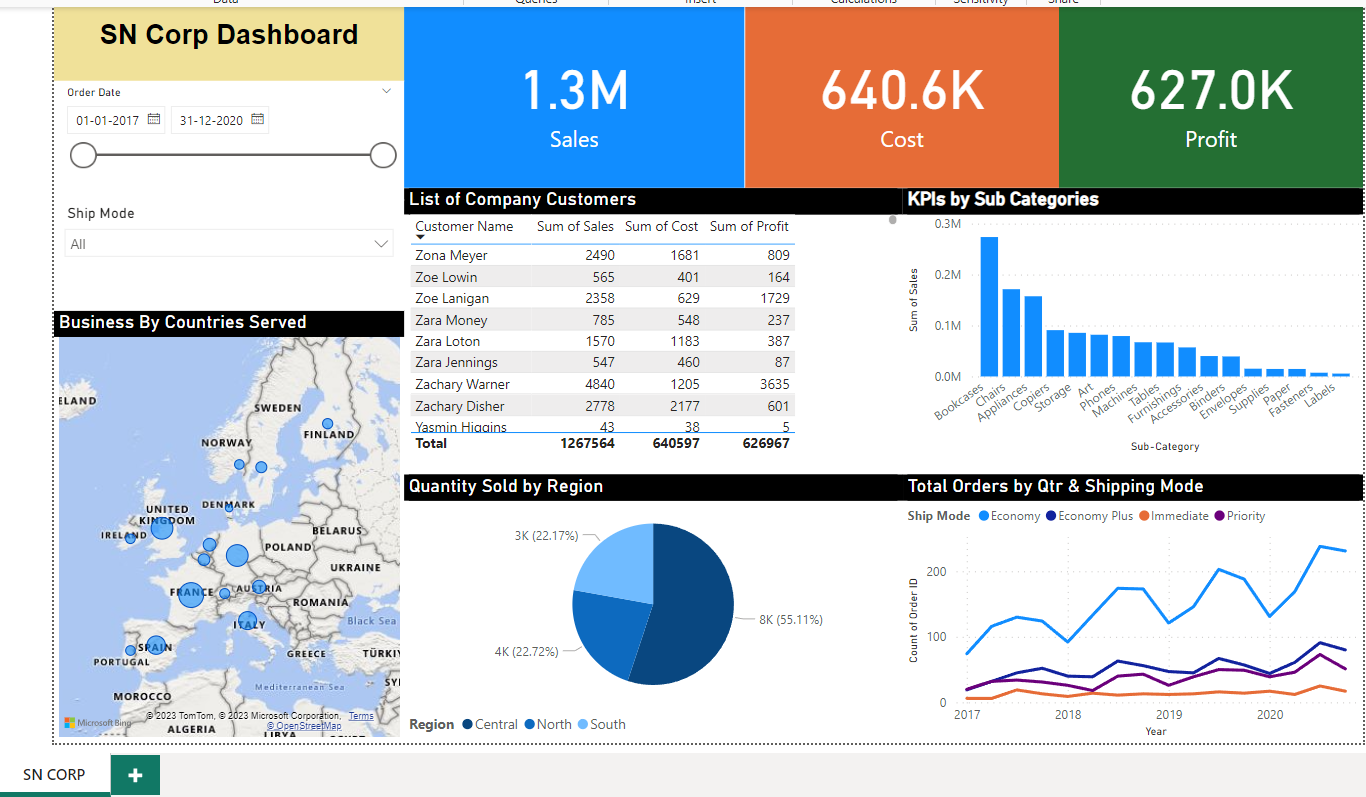

Layout of this report page (visuals, bound fields, positions):
{"tool":"powerbi","page":{"name":"Dashboard","canvas":[1280,720],"ordinal":0},"visuals":[{"type":"card","fields":{"Values":["List of Orders.Sales"]},"box":[342.8,0,333.2,176.9],"z":0},{"type":"card","fields":{"Values":["List of Orders.Cost"]},"box":[675.9,0,307.1,176.9],"z":1000},{"type":"card","fields":{"Values":["List of Orders.Profit"]},"box":[983,0,297.5,176.9],"z":2000},{"type":"tableEx","title":"List of Company Customers","fields":{"Values":["List of Orders.Customer Name","List of Orders.Sales","List of Orders.Cost","List of Orders.Profit"]},"box":[342.3,177.2,487.7,264],"z":3000},{"type":"clusteredColumnChart","title":"KPIs by Sub Categories ","fields":{"Category":["List of Orders.Sub-Category"],"Y":["List of Orders.Sales"]},"box":[830,177.2,451.1,264],"z":4000},{"type":"lineChart","title":"Total Orders by Qtr & Shipping Mode","fields":{"Y":["List of Orders.Order ID"],"Category":["List of Orders.Order Date.Variation.Date Hierarchy.Year","List of Orders.Order Date.Variation.Date Hierarchy.Quarter"],"Series":["List of Orders.Ship Mode"]},"box":[830,457.2,451.1,262.8],"z":5000},{"type":"pieChart","title":"Quantity Sold by Region","fields":{"Y":["List of Orders.Quantity"],"Category":["List of Orders.Region"]},"box":[342.3,457.2,487.7,262.8],"z":6000},{"type":"map","title":"Business By Countries Served","fields":{"Category":["List of Orders.Country"],"Size":["List of Orders.Sales"]},"box":[0,297.5,342.8,422.3],"z":7000},{"type":"textbox","box":[0,0,342.8,72.7],"z":7001},{"type":"slicer","fields":{"Values":["List of Orders.Order Date"]},"box":[0,72.7,342.8,116.5],"z":7002},{"type":"slicer","fields":{"Values":["List of Orders.Ship Mode"]},"box":[0,188.3,342.3,108.8],"z":7003}]}

Visuals, with their boxes in screenshot pixels (x1, y1, x2, y2):
card - List of Orders.Sales: {"left": 401, "top": 28, "right": 740, "bottom": 208}
card - List of Orders.Cost: {"left": 739, "top": 28, "right": 1051, "bottom": 208}
card - List of Orders.Profit: {"left": 1051, "top": 28, "right": 1353, "bottom": 208}
"List of Company Customers" tableEx: {"left": 401, "top": 208, "right": 896, "bottom": 476}
"KPIs by Sub Categories " clusteredColumnChart: {"left": 896, "top": 208, "right": 1354, "bottom": 476}
"Total Orders by Qtr & Shipping Mode" lineChart: {"left": 896, "top": 493, "right": 1354, "bottom": 759}
"Quantity Sold by Region" pieChart: {"left": 401, "top": 493, "right": 896, "bottom": 759}
"Business By Countries Served" map: {"left": 53, "top": 330, "right": 401, "bottom": 759}
textbox: {"left": 53, "top": 28, "right": 401, "bottom": 102}
slicer - List of Orders.Order Date: {"left": 53, "top": 102, "right": 401, "bottom": 221}
slicer - List of Orders.Ship Mode: {"left": 53, "top": 220, "right": 401, "bottom": 330}
